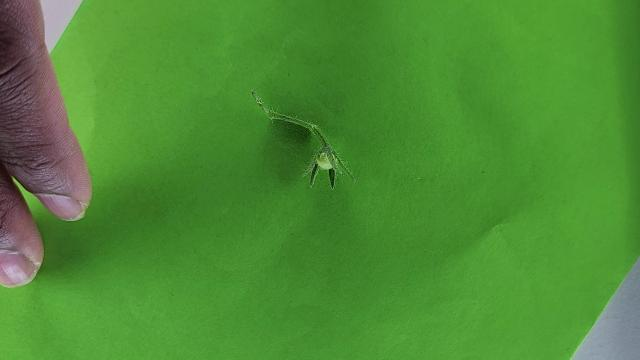Fruit Bud: (306, 149, 336, 188)
Fruit Maturation: (315, 151, 333, 170)
